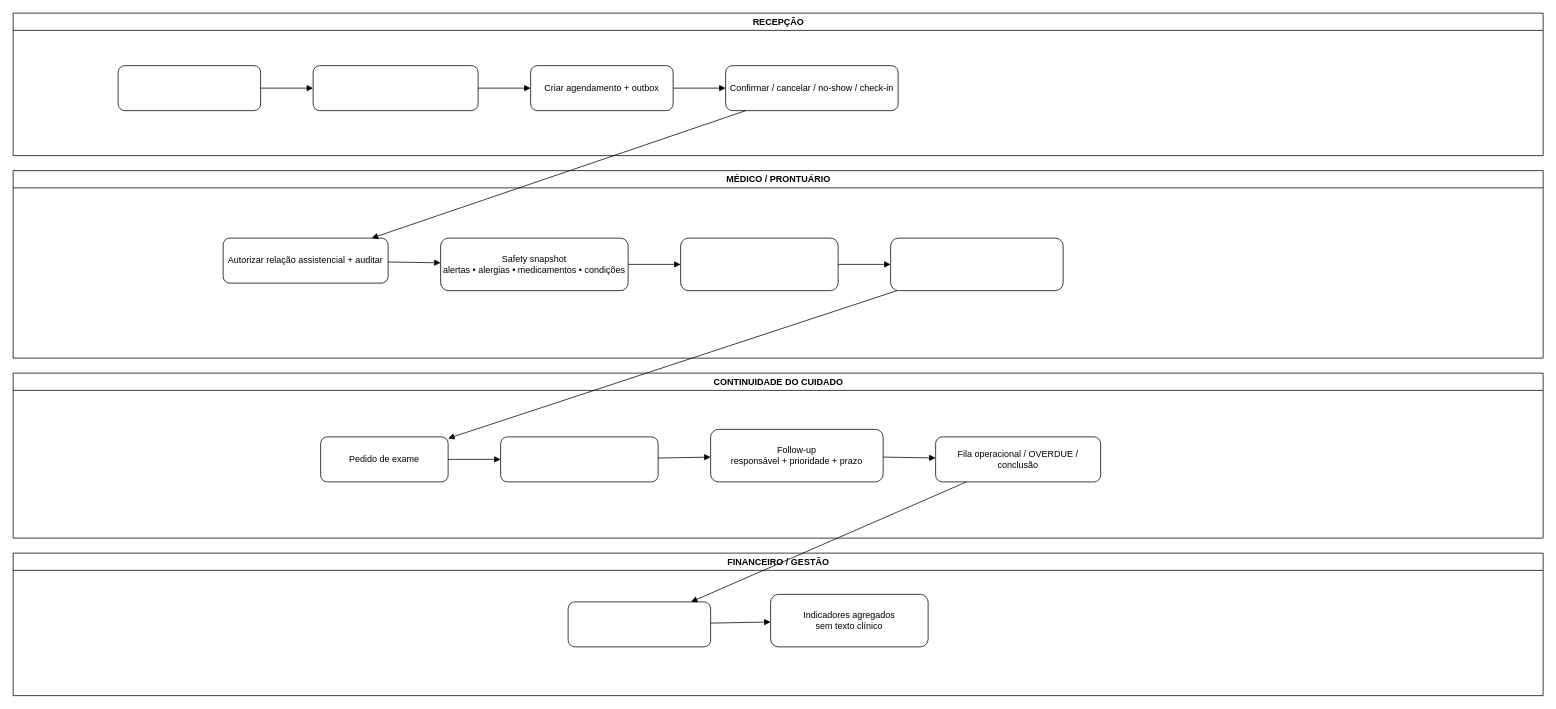
The diagram is 1556 pixels wide and 709 high, and some of its shapes have lost their labels. Here are the shapes that lost their labels. From the top down, the box of each, then its label:
(117, 65, 261, 111): Localizar / cadastrar paciente
(312, 65, 478, 111): Validar disponibilidade + bloqueios + conflito
(680, 237, 838, 291): Encounter DRAFT salvar com versionamento
(890, 237, 1063, 291): Finalizar → FINAL imutável; correção por adendo
(500, 436, 658, 482): Resultado recebido ≠ revisado
(567, 601, 711, 647): Recebível + pagamentos
